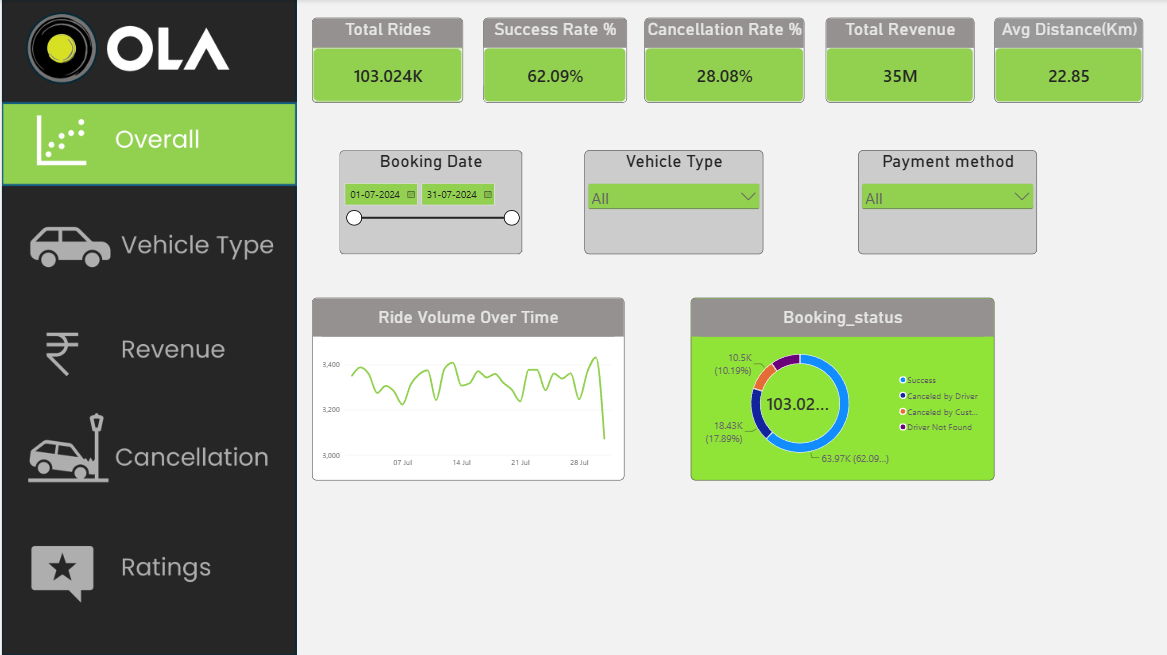

The dashboard page shown, as its layout file describes it:
{"tool":"powerbi","page":{"name":"Overall","canvas":[1920,1080],"ordinal":0},"visuals":[{"type":"cardVisual","title":"Total Rides","fields":{"Data":["ola_rides.Total Rides"]},"box":[510.5,30.9,249.1,140],"z":0},{"type":"cardVisual","title":"Success Rate %","fields":{"Data":["ola_rides.Success Rate %"]},"box":[792.5,30.9,236.7,140],"z":1000},{"type":"cardVisual","title":"Cancellation Rate %","fields":{"Data":["ola_rides.Cancellation Rate %"]},"box":[1058,30.9,263.5,140],"z":2000},{"type":"cardVisual","title":"Total Revenue","fields":{"Data":["ola_rides.Total Revenue"]},"box":[1356.4,30.9,244.9,140],"z":3000},{"type":"cardVisual","title":"Avg Distance(Km)","fields":{"Data":["ola_rides.Avg Distance (km)"]},"box":[1634.3,30.9,244.9,140],"z":4000},{"type":"lineChart","title":"Ride Volume Over Time","fields":{"Category":["ola_rides.booking_date.Variation.Date Hierarchy.Year","ola_rides.booking_date.Variation.Date Hierarchy.Quarter","ola_rides.booking_date.Variation.Date Hierarchy.Month","ola_rides.booking_date.Variation.Date Hierarchy.Day"],"Y":["ola_rides.Total Rides"]},"box":[510.5,491.9,514.6,300.5],"z":5000},{"type":"donutChart","title":"Booking_status","fields":{"Category":["ola_rides.booking_status"],"Y":["ola_rides.Total Rides"]},"box":[1134.1,491.9,500.2,300.5],"z":6000},{"type":"slicer","title":"Booking Date","fields":{"Values":["ola_rides.booking_date"]},"box":[555.7,249.1,300.5,170.8],"z":7000},{"type":"slicer","title":"Vehicle Type","fields":{"Values":["ola_rides.vehicle_type"]},"box":[959.2,249.1,294.3,170.8],"z":8000},{"type":"slicer","title":"Payment method","fields":{"Values":["ola_rides.payment_method"]},"box":[1410,249.1,294.3,170.8],"z":9000},{"type":"actionButton","box":[0,170.8,487.8,133.8],"z":10000},{"type":"actionButton","box":[0,304.6,487.8,172.9],"z":11000},{"type":"actionButton","box":[0,512.5,487.8,129.7],"z":12000},{"type":"actionButton","box":[0,687.5,487.8,164.7],"z":13000},{"type":"actionButton","box":[0,852.1,487.8,164.7],"z":14000}]}

Visuals, with their boxes in screenshot pixels (x1, y1, x2, y2), scaled from the page's 1920x1080 canvas onto the 1167x655 screenshot:
"Total Rides" cardVisual: bbox=[310, 19, 462, 104]
"Success Rate %" cardVisual: bbox=[482, 19, 626, 104]
"Cancellation Rate %" cardVisual: bbox=[643, 19, 803, 104]
"Total Revenue" cardVisual: bbox=[824, 19, 973, 104]
"Avg Distance(Km)" cardVisual: bbox=[993, 19, 1142, 104]
"Ride Volume Over Time" lineChart: bbox=[310, 298, 623, 481]
"Booking_status" donutChart: bbox=[689, 298, 993, 481]
"Booking Date" slicer: bbox=[338, 151, 520, 255]
"Vehicle Type" slicer: bbox=[583, 151, 762, 255]
"Payment method" slicer: bbox=[857, 151, 1036, 255]
actionButton: bbox=[0, 104, 296, 185]
actionButton: bbox=[0, 185, 296, 290]
actionButton: bbox=[0, 311, 296, 389]
actionButton: bbox=[0, 417, 296, 517]
actionButton: bbox=[0, 517, 296, 617]
